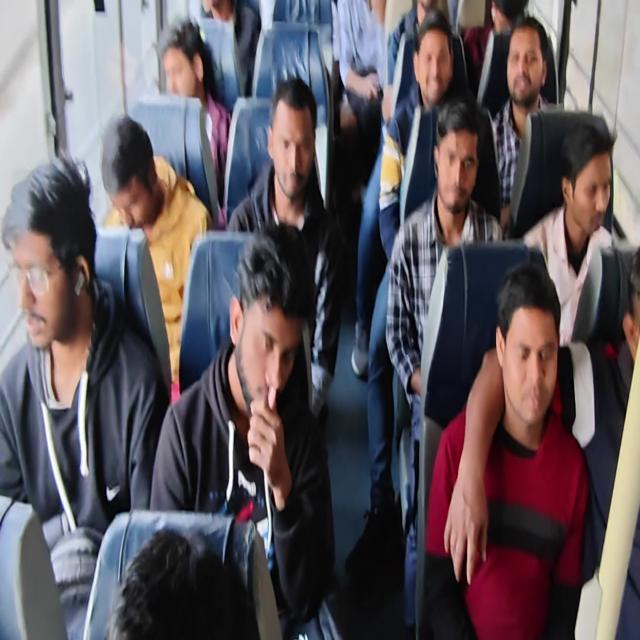person: (230, 257, 312, 431), (0, 179, 79, 356), (494, 271, 560, 426), (104, 119, 160, 228), (564, 139, 620, 239), (431, 116, 482, 222), (270, 97, 317, 205), (153, 31, 205, 106), (414, 27, 452, 99), (507, 36, 544, 108), (489, 0, 527, 27), (412, 0, 447, 20), (192, 0, 230, 16)
